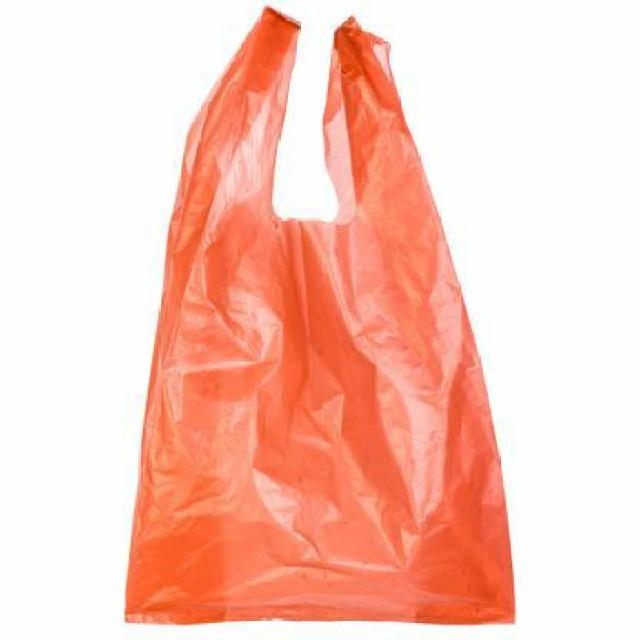plastic bag: (104, 0, 526, 638)
